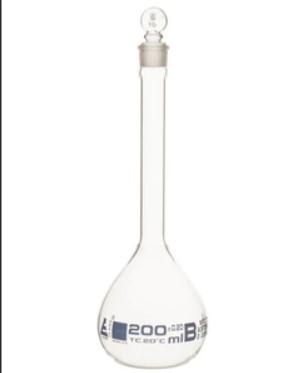Volumetric flask: (101, 13, 211, 362)
